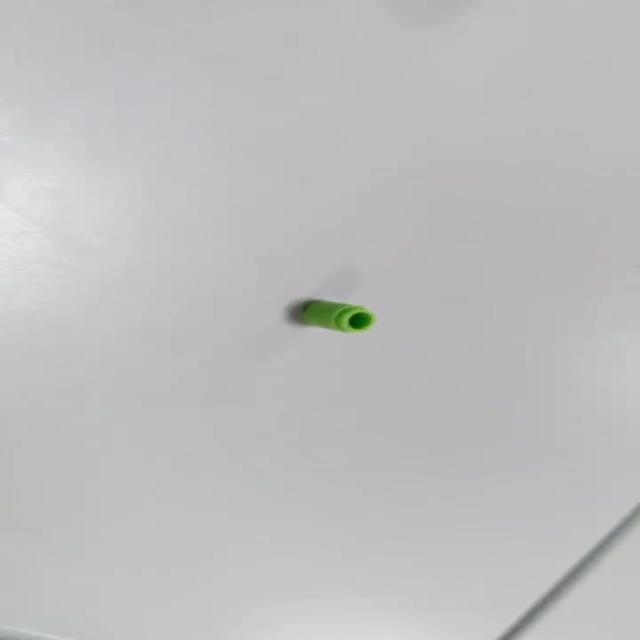S1x1x1: (295, 298, 378, 334)
